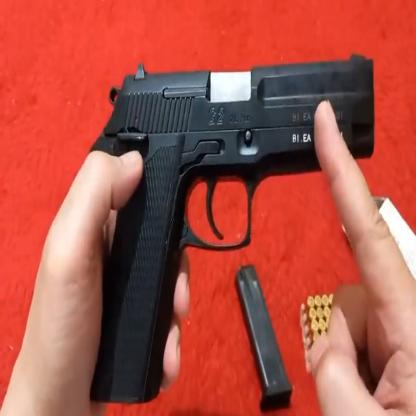handgun: (84, 45, 382, 411)
